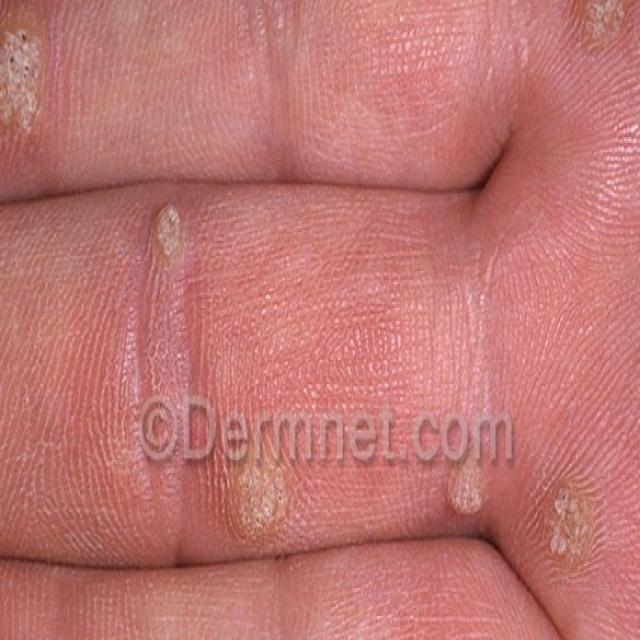Warts: (161, 388, 359, 564), (536, 467, 613, 622), (142, 181, 204, 279), (437, 448, 494, 533)
